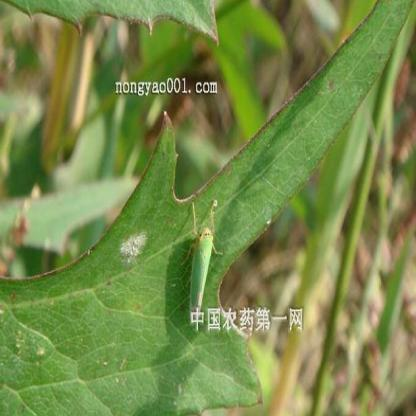Green-Leafhopper: (179, 190, 227, 327)
